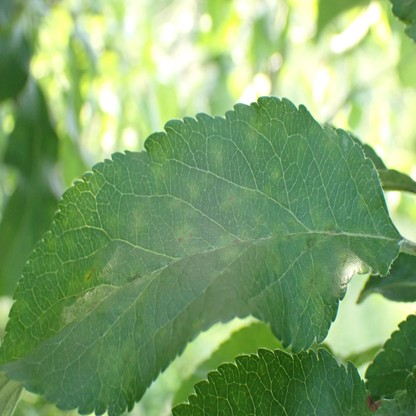frogeye_leaf_spot: (367, 396, 381, 412)
scab: (102, 340, 139, 404), (300, 216, 339, 250), (300, 262, 329, 298), (153, 135, 172, 184), (221, 184, 256, 208), (218, 234, 250, 260), (176, 221, 199, 244), (271, 221, 293, 242), (210, 141, 225, 170), (266, 247, 281, 274), (246, 119, 259, 147), (133, 208, 147, 231), (84, 262, 97, 284), (338, 250, 353, 269), (189, 179, 201, 200), (167, 198, 181, 211), (271, 165, 280, 181), (192, 320, 202, 330)
